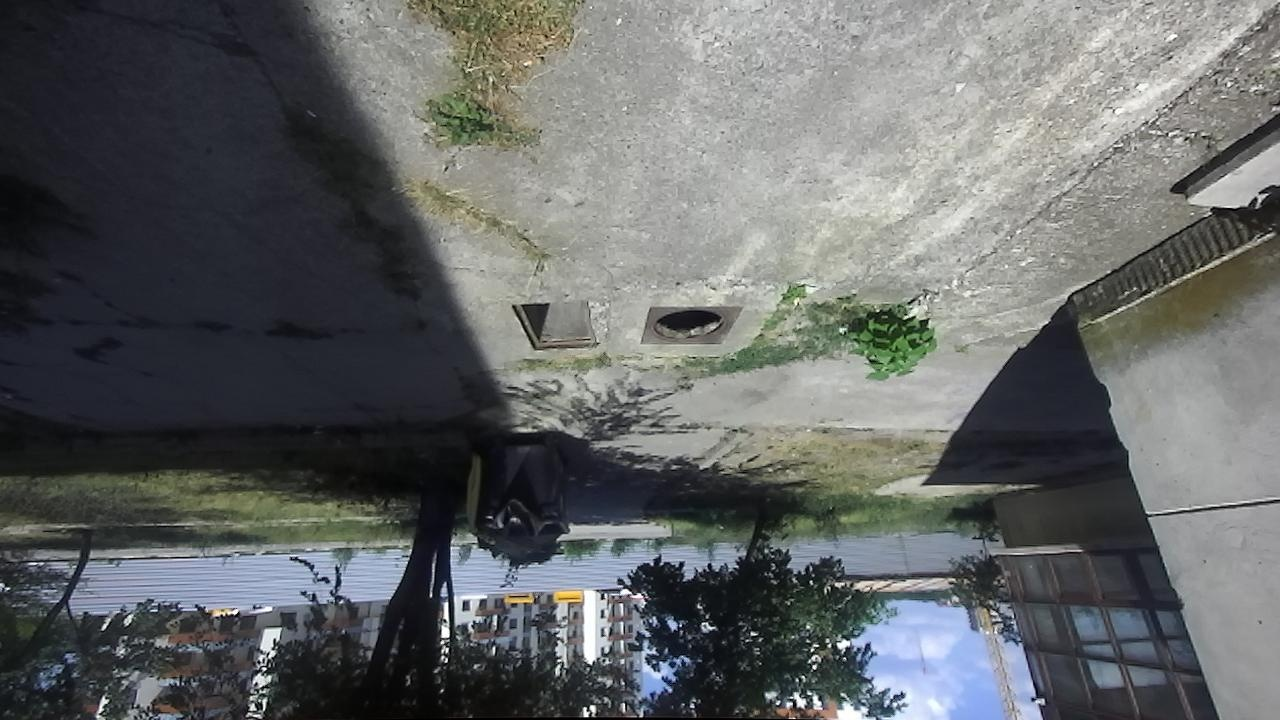drain: (506, 301, 603, 351), (645, 304, 726, 345)
